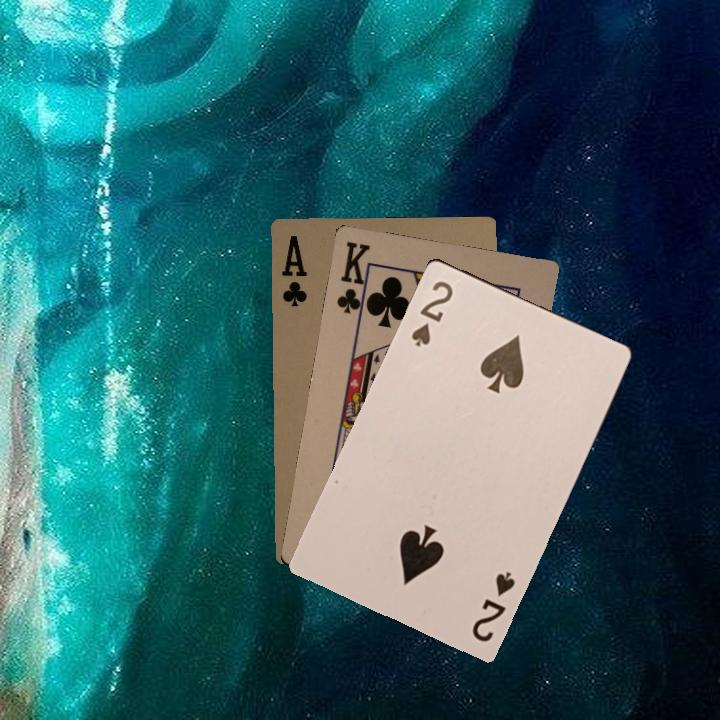2s: (468, 568, 518, 645), (407, 276, 456, 350)
Ac: (277, 231, 310, 310)
Kc: (332, 237, 374, 322)
